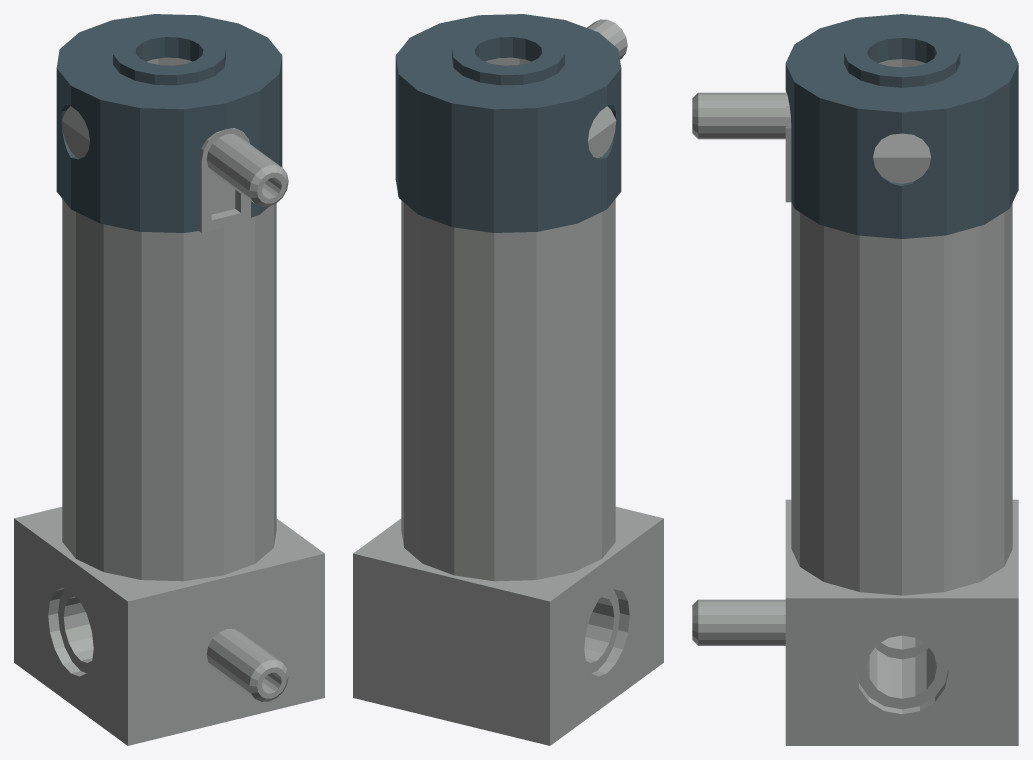
3 renders of one model, left to right at view 1: azimuth 30°, elevation 25°; view 2: azimuth 150°, elevation 25°; view 3: azimuth 270°, elevation 25°, orthographic. The views are drawn at different scales.
Parts seen in each view (by area): view 1: world; view 2: world; view 3: world.
Boxes of the visible parts, x1,y1,x2,y2 form: world: (14, 14, 324, 745); world: (353, 14, 663, 745); world: (692, 14, 1018, 745).
Size of the model in its own units: 0.016 by 0.0488 by 0.0224.
